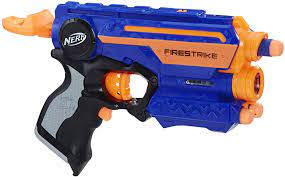gun: (1, 2, 285, 176)
